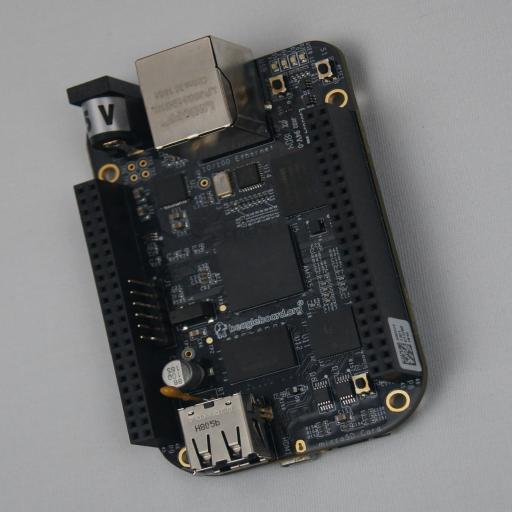Beaglebone Black: (67, 36, 437, 476)
